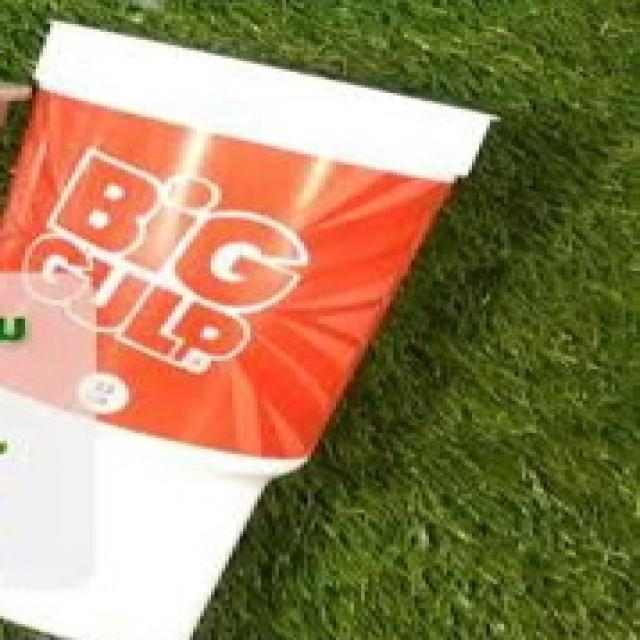plastic cup: (14, 0, 639, 637)
